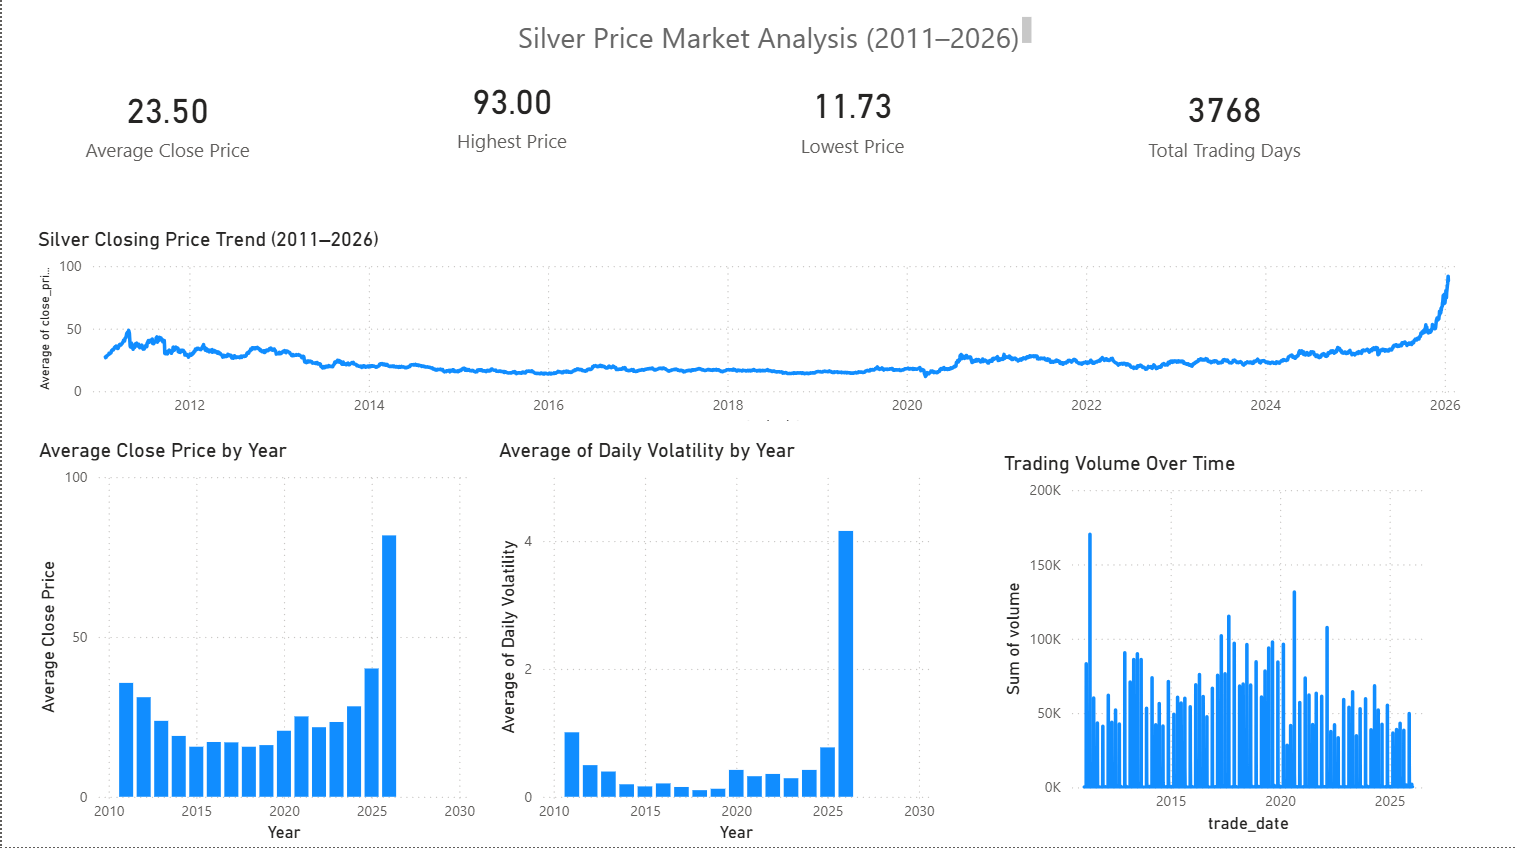

The dashboard page shown, as its layout file describes it:
{"tool":"powerbi","page":{"name":"Page 1","canvas":[1280,720],"ordinal":0},"visuals":[{"type":"lineChart","title":"Silver Closing Price Trend (2011–2026)","fields":{"Y":["Avg(silver_market_analysis silver_prices.close_price)"],"Category":["silver_market_analysis silver_prices.trade_date"]},"box":[25.6,196.3,1215,177.7],"z":0},{"type":"card","fields":{"Values":["silver_market_analysis silver_prices.Average Close Price"]},"box":[64.2,62.5,151.3,87.9],"z":1000},{"type":"card","fields":{"Values":["silver_market_analysis silver_prices.Highest Price"]},"box":[550.6,360.1,228.8,166.1],"z":2000},{"type":"card","fields":{"Values":["silver_market_analysis silver_prices.Lowest Price"]},"box":[619.4,49.9,198.6,105.6],"z":3000},{"type":"card","fields":{"Values":["silver_market_analysis silver_prices.Total Trading Days"]},"box":[897.5,35.5,271.3,141.1],"z":4000},{"type":"clusteredColumnChart","fields":{"Category":["silver_market_analysis silver_prices.Year"],"Y":["silver_market_analysis silver_prices.Average Close Price"]},"box":[25.9,374.1,379.1,346.2],"z":5000},{"type":"clusteredColumnChart","fields":{"Category":["silver_market_analysis silver_prices.Year"],"Y":["Avg(silver_market_analysis silver_prices.Daily Volatility)"]},"box":[415,374.1,379.1,346.2],"z":6000},{"type":"lineChart","title":"Trading Volume Over Time","fields":{"Category":["silver_market_analysis silver_prices.trade_date"],"Y":["Sum(silver_market_analysis silver_prices.volume)"]},"box":[842,385.1,368.1,327.2],"z":7000},{"type":"textbox","box":[431,13.5,443.7,43.1],"z":8000},{"type":"card","fields":{"Values":["silver_market_analysis silver_prices.Highest Price"]},"box":[339.7,49.9,182.5,98],"z":9000}]}

Visuals, with their boxes in screenshot pixels (x1, y1, x2, y2), scaled from the page's 1280x720 canvas onto the 1517x848 screenshot:
"Silver Closing Price Trend (2011–2026)" lineChart: x1=30, y1=231, x2=1470, y2=440
card - silver_market_analysis silver_prices.Average Close Price: x1=76, y1=74, x2=255, y2=177
card - silver_market_analysis silver_prices.Highest Price: x1=653, y1=424, x2=924, y2=620
card - silver_market_analysis silver_prices.Lowest Price: x1=734, y1=59, x2=969, y2=183
card - silver_market_analysis silver_prices.Total Trading Days: x1=1064, y1=42, x2=1385, y2=208
clusteredColumnChart - silver_market_analysis silver_prices.Year x silver_market_analysis silver_prices.Average Close Price: x1=31, y1=441, x2=480, y2=847
clusteredColumnChart - silver_market_analysis silver_prices.Year x Avg(silver_market_analysis silver_prices.Daily Volatility): x1=492, y1=441, x2=941, y2=847
"Trading Volume Over Time" lineChart: x1=998, y1=454, x2=1434, y2=839
textbox: x1=511, y1=16, x2=1037, y2=67
card - silver_market_analysis silver_prices.Highest Price: x1=403, y1=59, x2=619, y2=174
